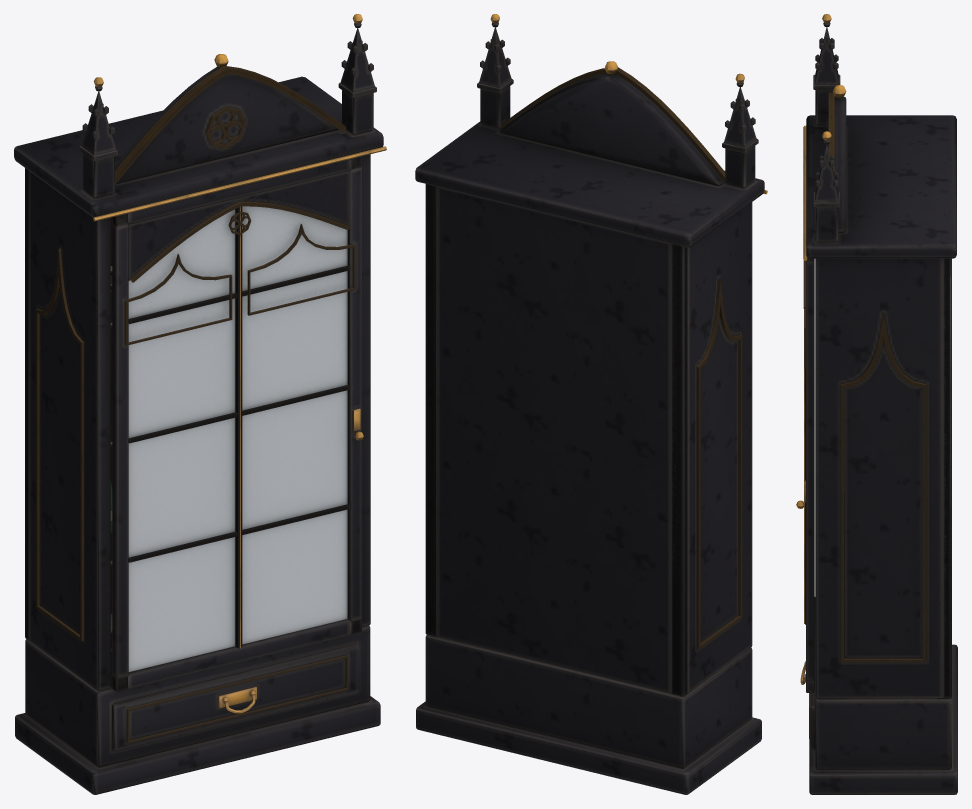
File: CuriosityCabinet.fbx
3 renders of one model, left to right at view 1: azimuth 30°, elevation 25°; view 2: azimuth 150°, elevation 25°; view 3: azimuth 270°, elevation 25°, orthographic. The views are drawn at different scales.
Visible parts, largest first — view 1: CuriosityCabinet_Main, CuriosityCabinet_Glass, CuriosityCabinet_Door0; view 2: CuriosityCabinet_Main; view 3: CuriosityCabinet_Main, CuriosityCabinet_Door0.
Boxes of the visible parts, <box> form: CuriosityCabinet_Main: <box>14,14,386,794</box>; CuriosityCabinet_Glass: <box>128,206,347,671</box>; CuriosityCabinet_Door0: <box>112,156,363,691</box>; CuriosityCabinet_Main: <box>415,14,767,794</box>; CuriosityCabinet_Main: <box>800,14,957,794</box>; CuriosityCabinet_Door0: <box>796,257,814,692</box>.
Bounding box in the file's own units: 320 × 743 × 165.
